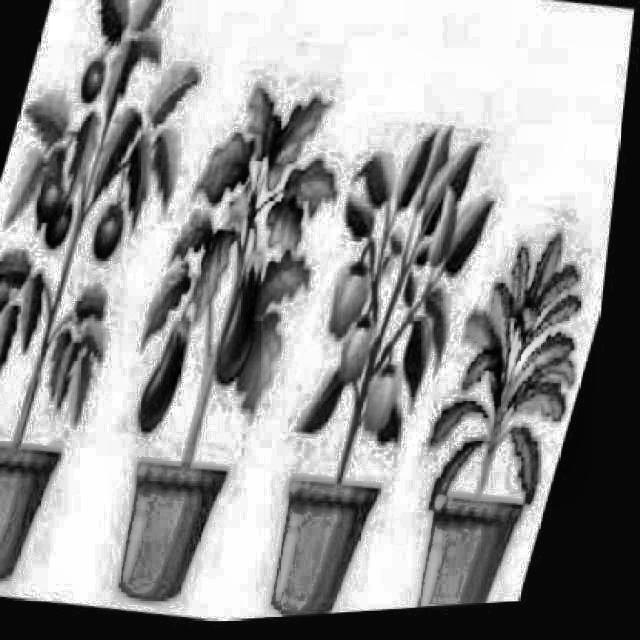plants: (75, 42, 378, 621), (237, 92, 523, 623), (0, 0, 238, 598), (385, 204, 618, 616)
